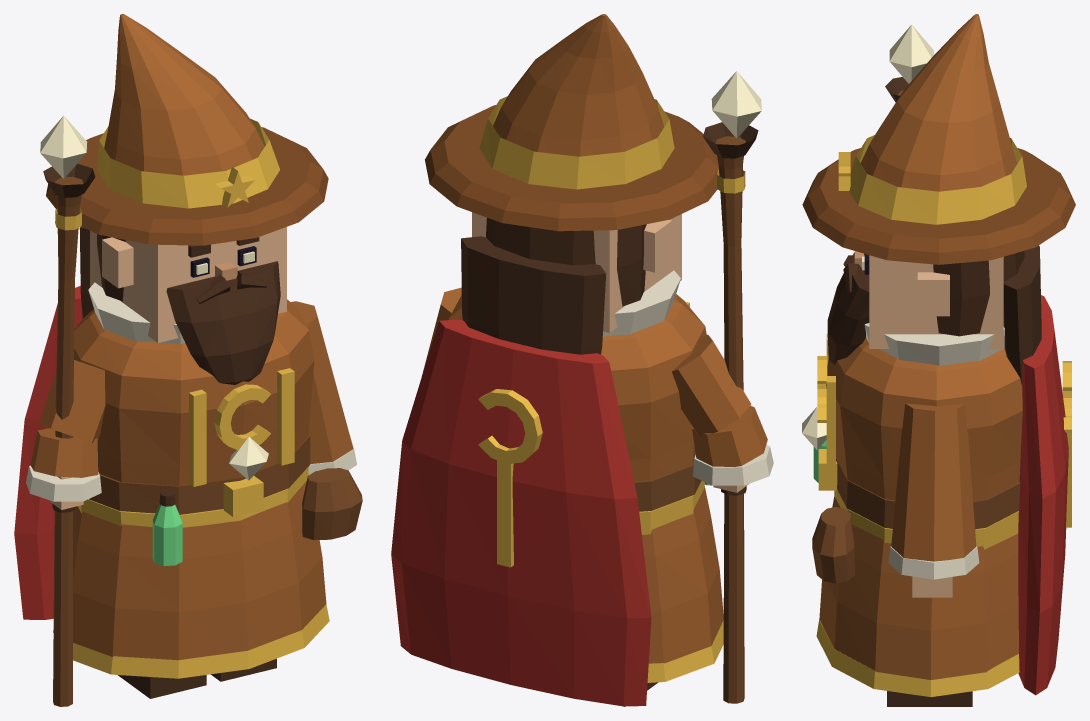
The model's file is efsanevi-ocakcan.obj.
3 views of the same model, side by side, from view 1: azimuth 30°, elevation 25°; view 2: azimuth 150°, elevation 25°; view 3: azimuth 270°, elevation 25° (orthographic). The views are drawn at different scales.
Visible parts, largest first — view 1: buyucu-etek, buyucu-govde, buyucu-sapka, buyucu-sapka-kenari, buyucu-kollar, buyucu-uzun-sakal, buyucu-asa, buyucu-kafa, buyucu-uzun-pelerin, buyucu-sapka-bandi, buyucu-etek-kenari, buyucu-kemer (+16 smaller); view 2: buyucu-uzun-pelerin, buyucu-sapka-kenari, buyucu-sapka, buyucu-uzun-sac, buyucu-govde, buyucu-etek, buyucu-asa, buyucu-kollar, buyucu-sapka-bandi, buyucu-sac, buyucu-pelerin-runlari, buyucu-kafa (+8 smaller); view 3: buyucu-etek, buyucu-govde, buyucu-sapka, buyucu-uzun-pelerin, buyucu-sapka-kenari, buyucu-kollar, buyucu-sapka-bandi, buyucu-kafa, buyucu-etek-kenari, buyucu-uzun-sac, buyucu-sac, buyucu-yaka (+15 smaller).
Boxes of the visible parts, x1,y1,x2,y2 form: buyucu-etek: (73,481,326,660); buyucu-govde: (74,299,314,486); buyucu-sapka: (104,14,264,175); buyucu-sapka-kenari: (46,127,328,245); buyucu-kollar: (30,301,353,477); buyucu-uzun-sakal: (166,261,280,384); buyucu-asa: (53,176,83,706); buyucu-kafa: (90,227,286,342); buyucu-uzun-pelerin: (14,286,82,619); buyucu-sapka-bandi: (97,118,279,208); buyucu-etek-kenari: (53,604,329,678); buyucu-kemer: (89,433,310,514); buyucu-uzun-pelerin: (391,319,651,706); buyucu-sapka-kenari: (425,105,718,231); buyucu-sapka: (493,14,664,156); buyucu-uzun-sac: (461,236,606,354); buyucu-govde: (448,294,706,481); buyucu-etek: (642,486,723,663); buyucu-asa: (715,136,745,703); buyucu-kollar: (422,287,767,466); buyucu-sapka-bandi: (479,96,674,189); buyucu-sac: (486,217,646,306); buyucu-pelerin-runlari: (478,389,542,567); buyucu-kafa: (472,212,681,332); buyucu-etek: (819,496,1018,679); buyucu-govde: (826,338,1022,500); buyucu-sapka: (860,14,1017,191); buyucu-uzun-pelerin: (1018,295,1068,695); buyucu-sapka-kenari: (802,148,1075,264); buyucu-kollar: (891,403,976,561); buyucu-sapka-bandi: (849,135,1026,224); buyucu-kafa: (869,255,1003,348); buyucu-etek-kenari: (816,619,1019,696); buyucu-uzun-sac: (1003,245,1041,384); buyucu-sac: (933,251,1024,336); buyucu-yaka: (864,323,1004,365).
Bounding box in the file's own units: 28.29 × 52.6 × 20.43.
